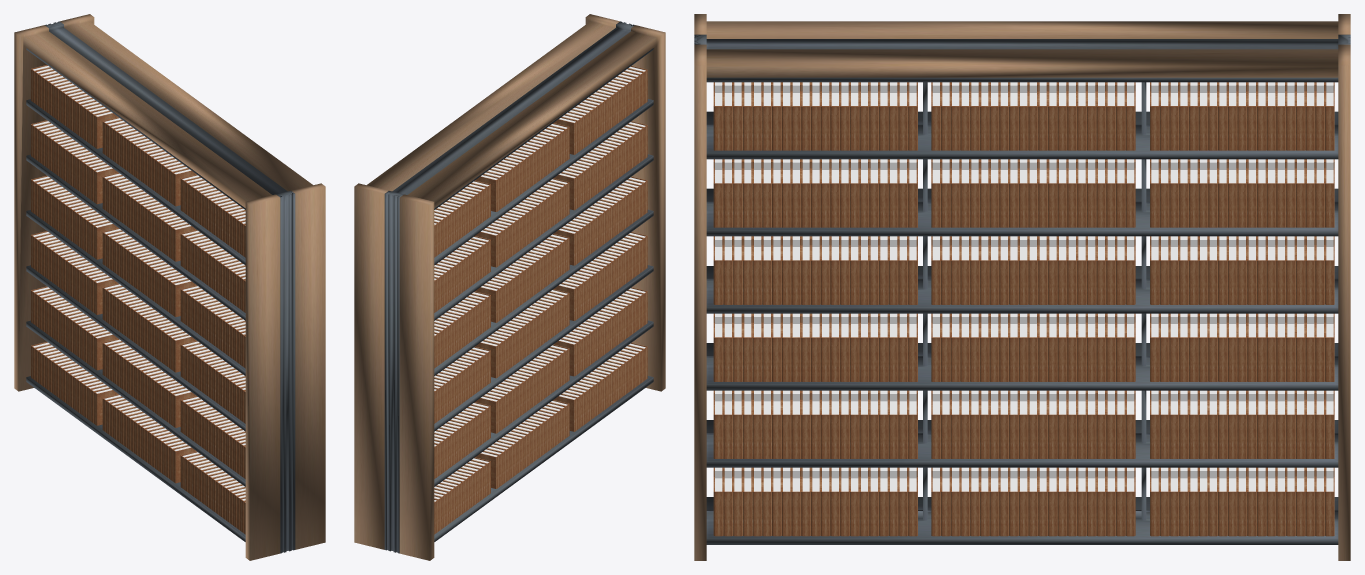
The model's file is book3.obj.
3 views of the same model, side by side, from view 1: azimuth 30°, elevation 25°; view 2: azimuth 150°, elevation 25°; view 3: azimuth 270°, elevation 25° (orthographic). The views are drawn at different scales.
Parts seen in each view (by area): view 1: 3dSolid; view 2: 3dSolid; view 3: 3dSolid.
Part boxes in pixels (x1,y1,x2,y2): 3dSolid: (14,14,325,560); 3dSolid: (354,14,665,560); 3dSolid: (694,14,1350,560).
Bounding box in the file's own units: 50 × 225 × 270.
